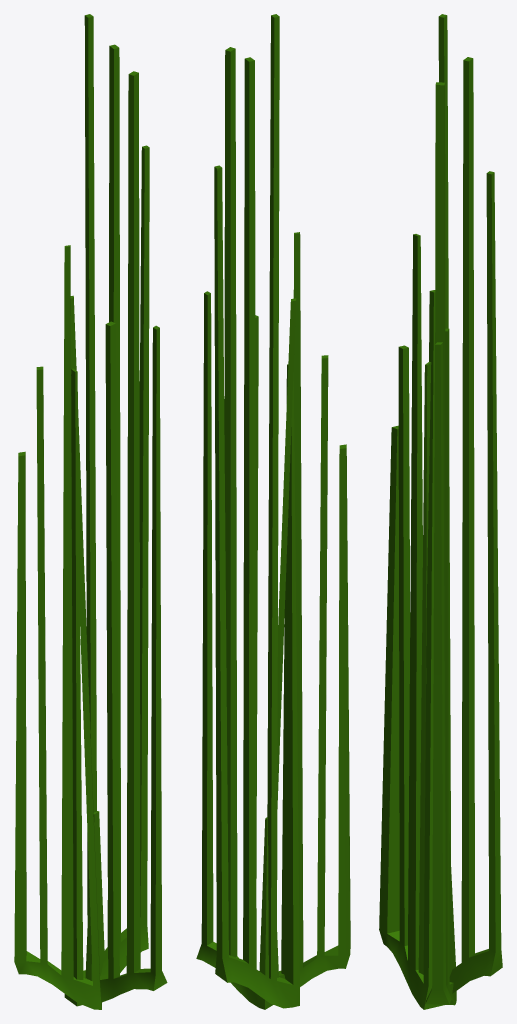
The model's file is SM_Seagrass_Long_Placeholder.fbx.
The picture shows the model from 3 angles, left to right: view 1: azimuth 30°, elevation 25°; view 2: azimuth 210°, elevation 25°; view 3: azimuth 330°, elevation 25°; orthographic projection.
Parts seen in each view (by area): view 1: SM_Seagrass_Long_Placeholder; view 2: SM_Seagrass_Long_Placeholder; view 3: SM_Seagrass_Long_Placeholder.
Boxes of the visible parts, x1=… form: SM_Seagrass_Long_Placeholder: x1=14, y1=14, x2=167, y2=1009; SM_Seagrass_Long_Placeholder: x1=196, y1=14, x2=350, y2=1009; SM_Seagrass_Long_Placeholder: x1=379, y1=14, x2=502, y2=1009.
Size of the model in its own units: 70.34 by 530 by 55.67.
